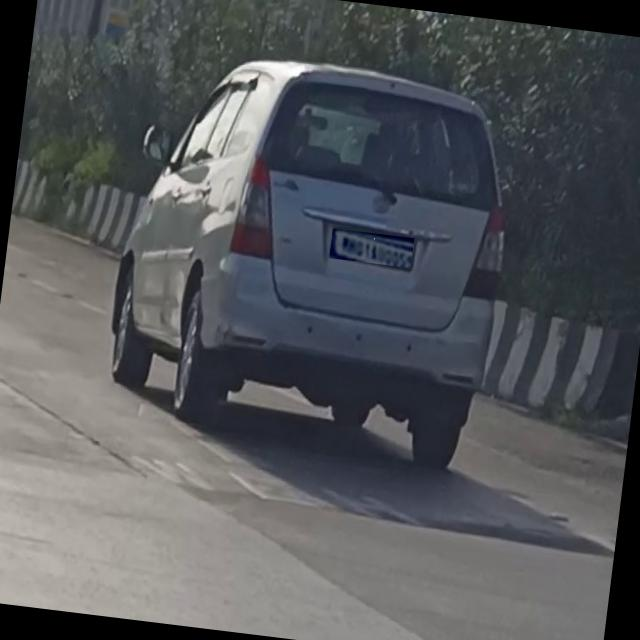Plate: (330, 229, 415, 269)
